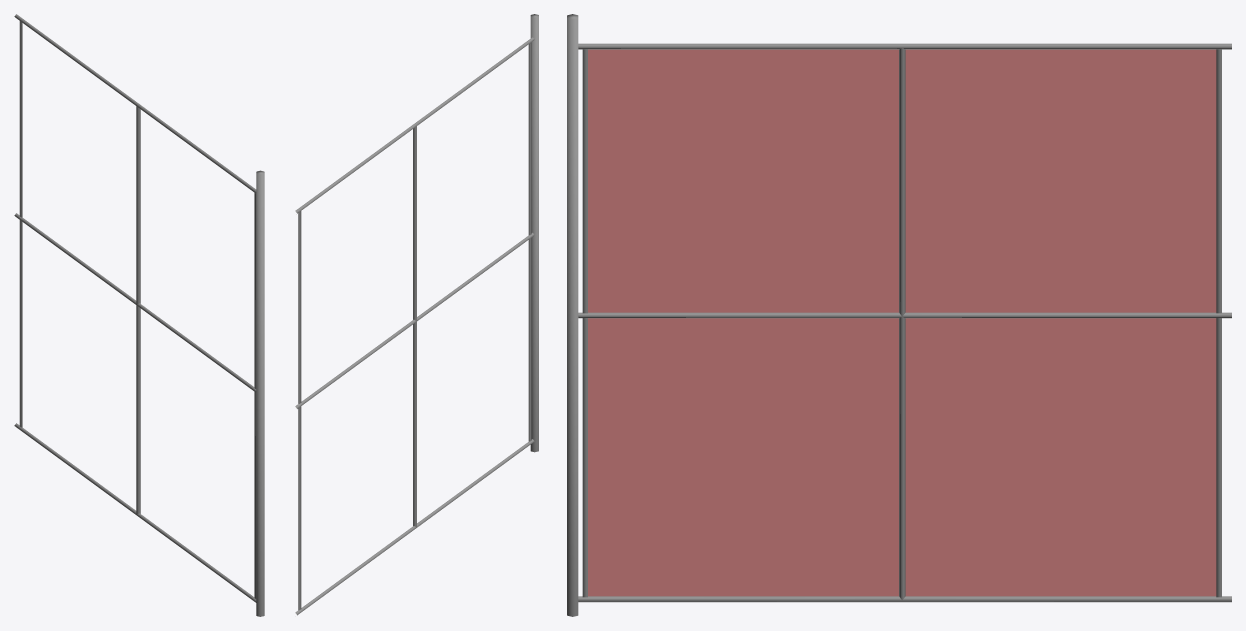
File: SM_fence_105.gltf
The picture shows the model from 3 angles, left to right: view 1: azimuth 30°, elevation 25°; view 2: azimuth 150°, elevation 25°; view 3: azimuth 270°, elevation 25°; orthographic projection. The views are drawn at different scales.
Parts seen in each view (by area): view 1: SM_fence_105; view 2: SM_fence_105; view 3: SM_fence_105.
Part boxes in pixels (<box>): SM_fence_105: <box>14,14,264,616</box>; SM_fence_105: <box>295,14,538,615</box>; SM_fence_105: <box>567,14,1231,616</box>.
Bounding box in the file's own units: 0.08 × 4 × 4.03.
